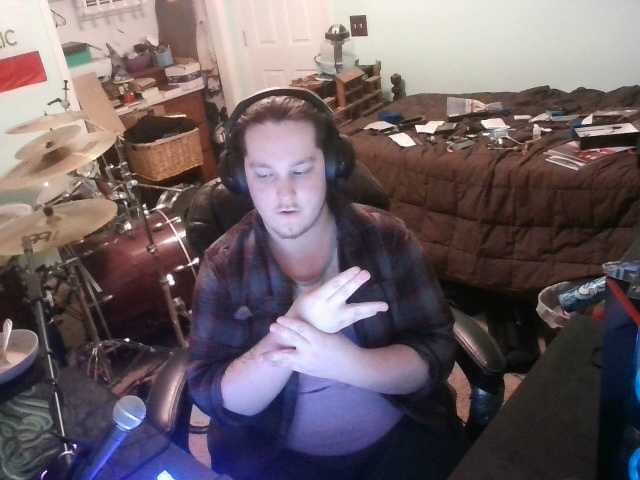world: (217, 252, 415, 398)
